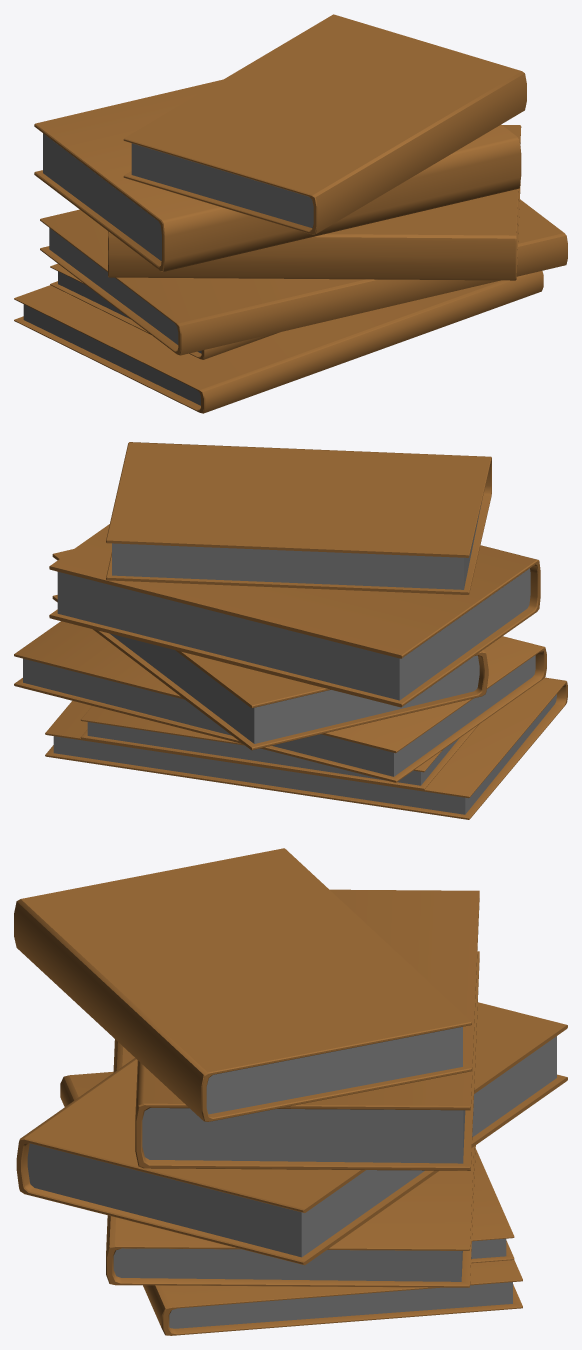
File: DECO_Books_02.FBX
3 views of the same model, one above another, from view 1: azimuth 30°, elevation 25°; view 2: azimuth 150°, elevation 25°; view 3: azimuth 270°, elevation 25° (orthographic). The views are drawn at different scales.
Parts seen in each view (by area): view 1: hqd_books_339; view 2: hqd_books_339; view 3: hqd_books_339.
Part boxes in pixels (x1,y1,x2,y2): hqd_books_339: [14, 14, 567, 413]; hqd_books_339: [14, 442, 567, 819]; hqd_books_339: [14, 848, 567, 1335].
Bounding box in the file's own units: 31.82 × 13.83 × 26.49.
